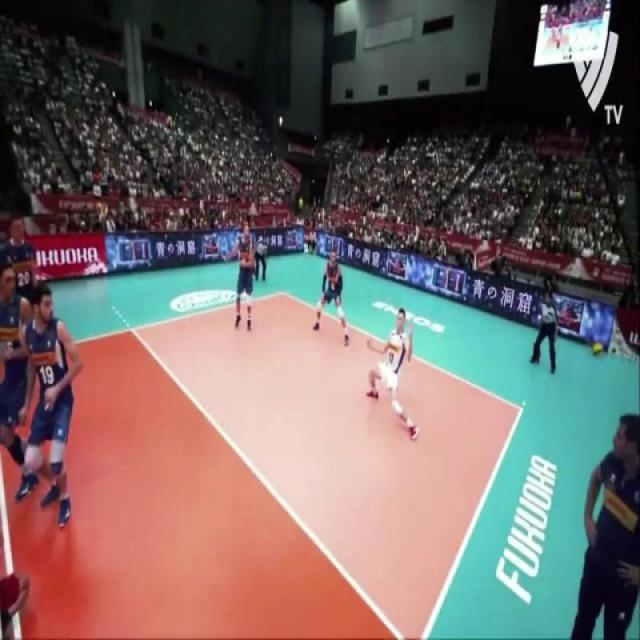volleyball: (592, 338, 605, 360)
